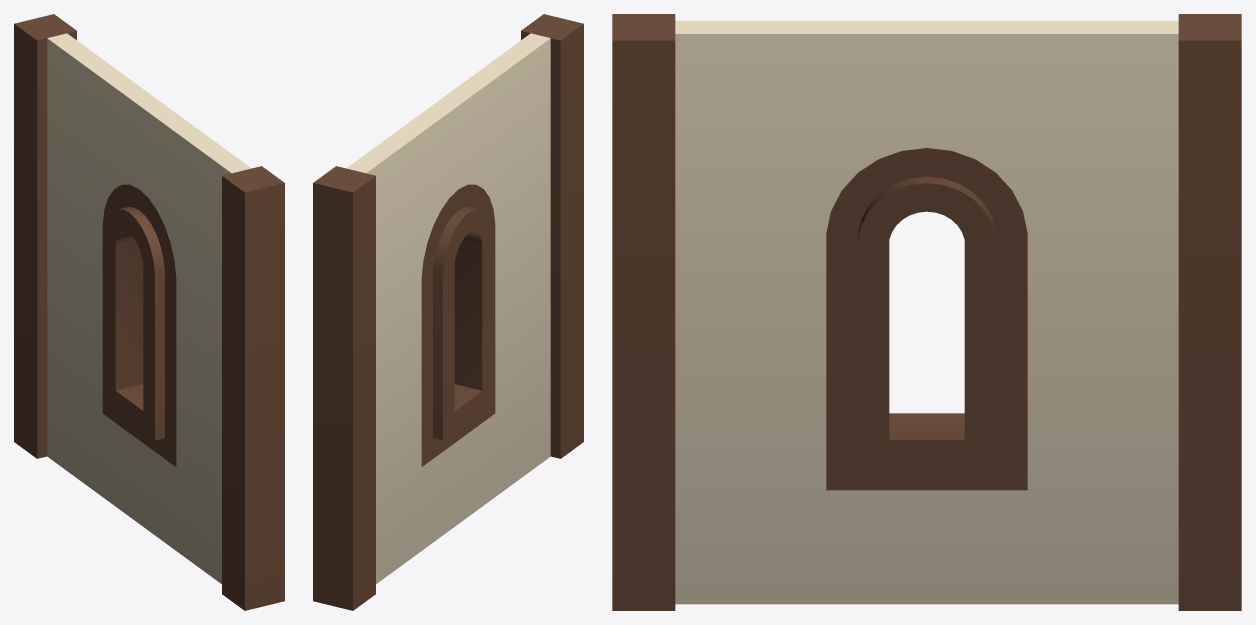
Rendered from wall-window-round.glb.
3 views of the same model, side by side, from view 1: azimuth 30°, elevation 25°; view 2: azimuth 150°, elevation 25°; view 3: azimuth 270°, elevation 25° (orthographic). The views are drawn at different scales.
Parts seen in each view (by area): view 1: wall-window-round; view 2: wall-window-round; view 3: wall-window-round.
Boxes of the visible parts, x1=… form: wall-window-round: x1=14, y1=14, x2=284, y2=610; wall-window-round: x1=313, y1=14, x2=583, y2=610; wall-window-round: x1=612, y1=14, x2=1241, y2=610.
Bounding box in the file's own units: 0.1 × 1 × 1.
Materials: 1 (1 with a texture image).
